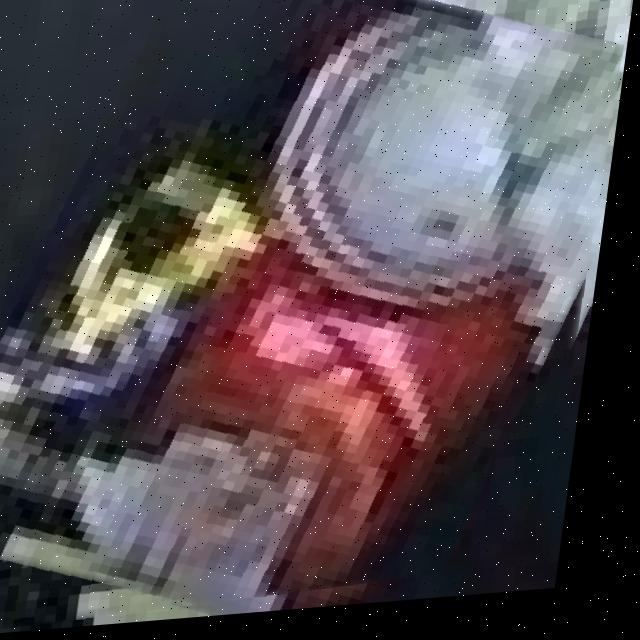litter: (0, 0, 609, 612)
